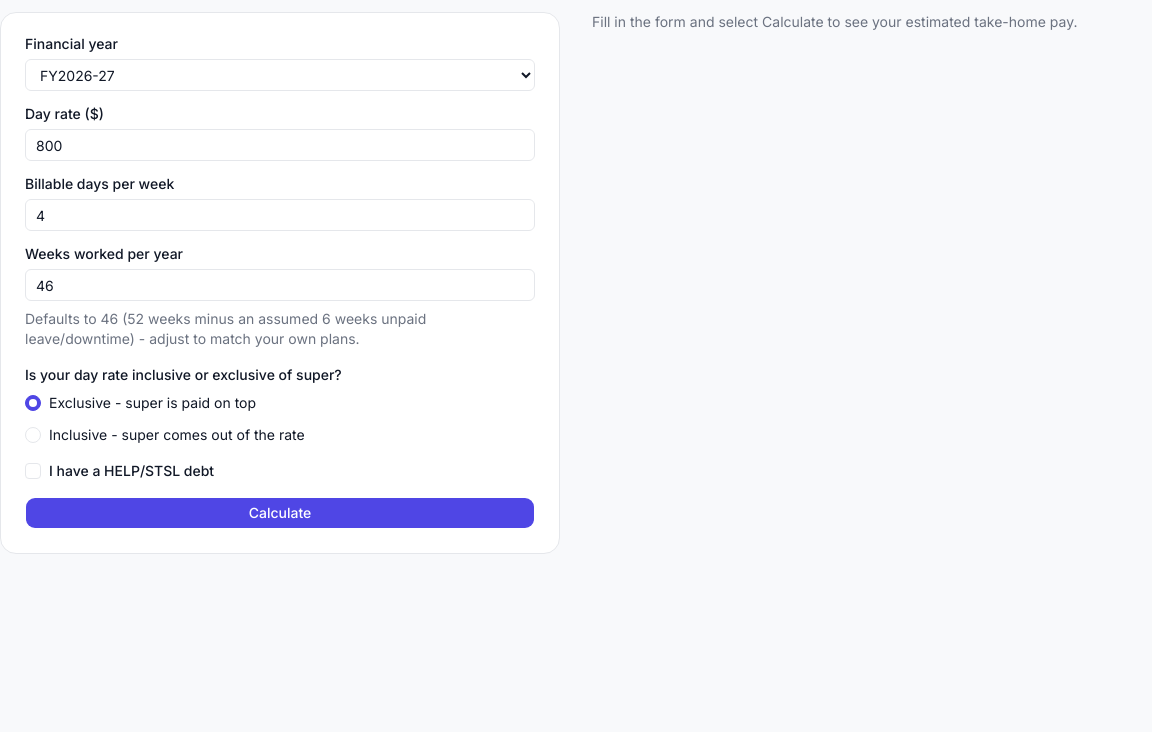
it: ContractorTakeHomeCalculator › rejects more than 52 weeks worked per year
This screenshot has width=1152, height=732.
Replace the text in the number field labelled "Weeks worked per year" with "53" at (280, 285), box left=25, top=269, right=535, bottom=301
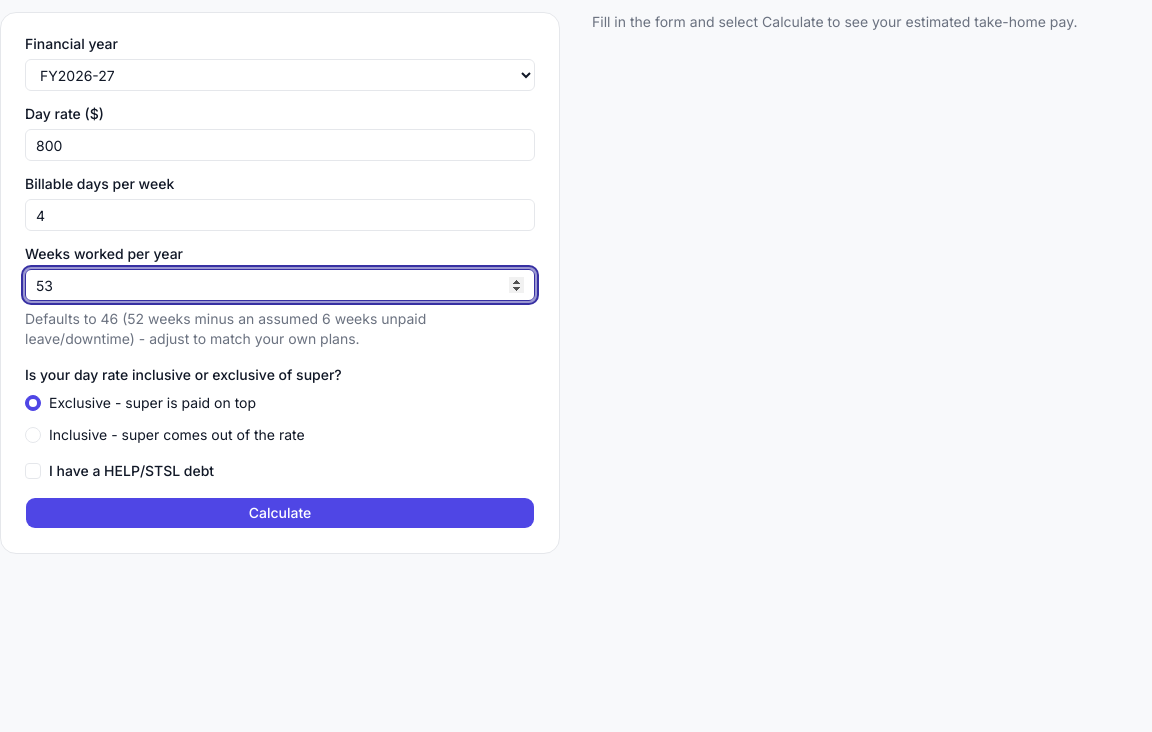
Click the button "Calculate" at (280, 513), box left=25, top=497, right=535, bottom=529
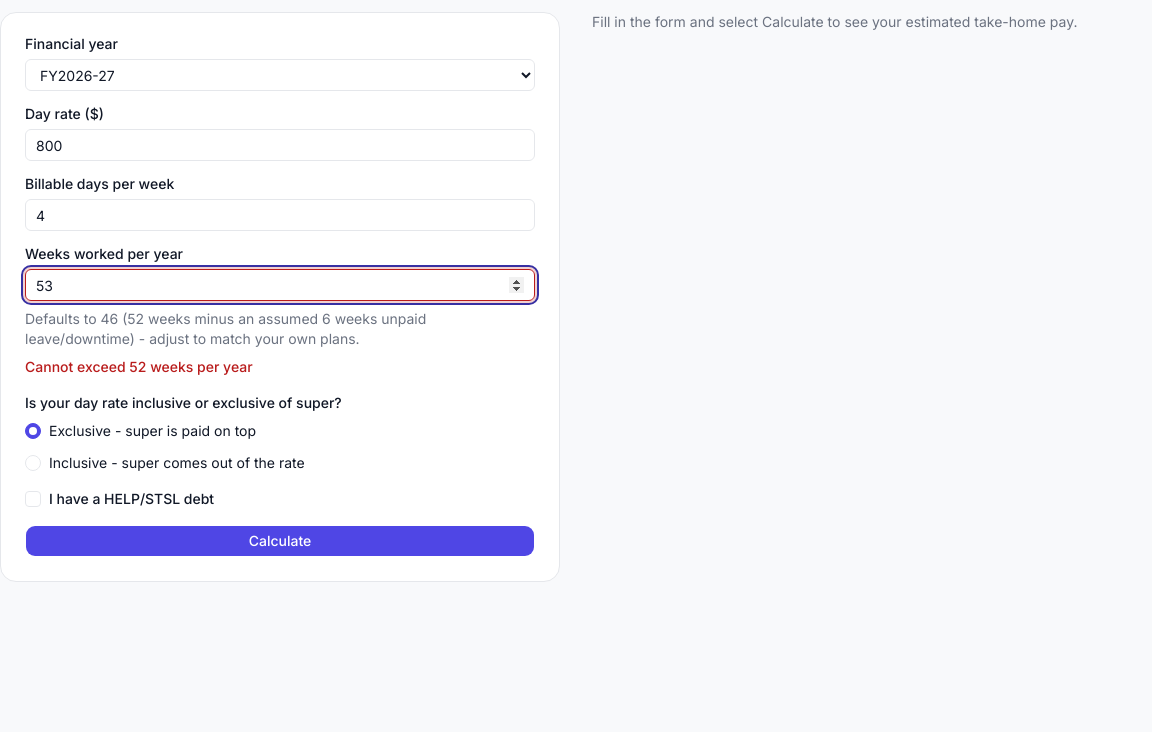
Expected: the message shows "Cannot exceed 52 weeks", left=25, top=358, right=253, bottom=375
